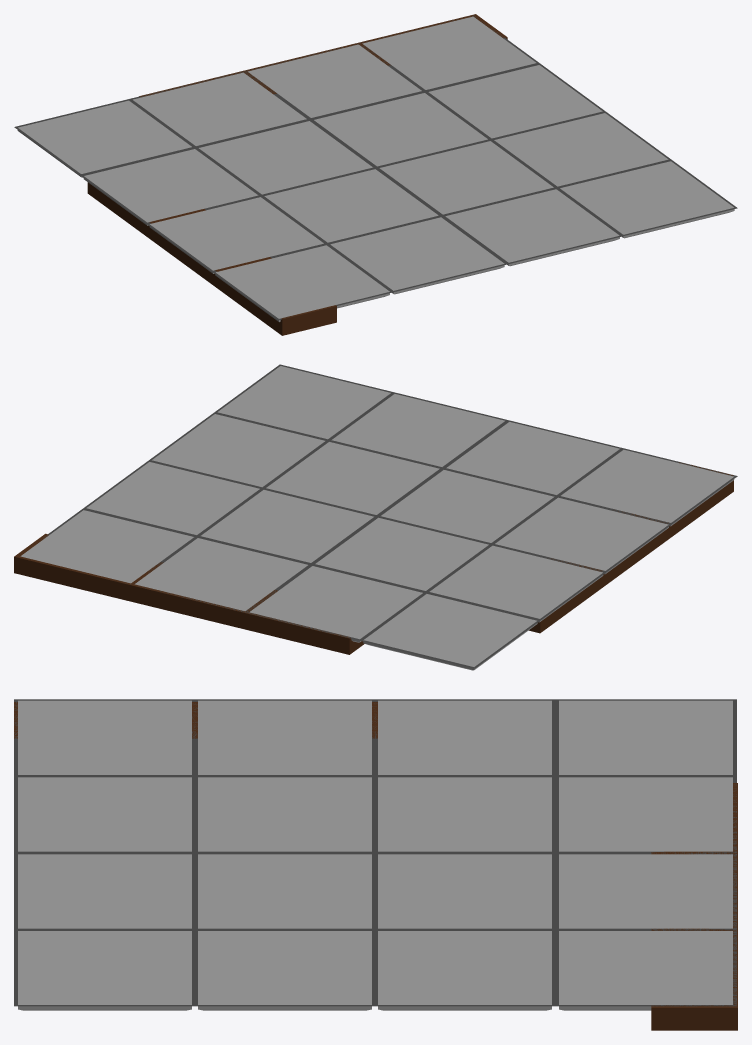
The model's file is StoneTilesCeillingCorner.fbx.
The picture shows the model from 3 angles, top to bottom: view 1: azimuth 30°, elevation 25°; view 2: azimuth 150°, elevation 25°; view 3: azimuth 270°, elevation 25°; orthographic projection. The views are drawn at different scales.
Parts seen in each view (by area): view 1: Plane.025, Cube.462, Cube.459, Cube.467, Cube.470, Cube.472, Cube.471, Cube.469, Cube.465, Cube.463, Cube.461, Cube.468 (+7 smaller); view 2: Plane.025, Cube.472, Cube.471, Cube.470, Cube.469, Cube.465, Cube.463, Cube.460, Cube.462, Cube.464, Cube.461, Cube.457 (+7 smaller); view 3: Plane.025, Cube.463, Cube.462, Cube.461, Cube.464, Cube.472, Cube.471, Cube.470, Cube.469, Cube.468, Cube.467, Cube.466 (+7 smaller).
Part boxes in pixels (box(x1,y1,x2,y2)): Plane.025: box(14, 15, 737, 320); Cube.462: box(560, 161, 734, 238); Cube.459: box(445, 189, 619, 266); Cube.467: box(330, 217, 504, 294); Cube.470: box(215, 245, 389, 322); Cube.472: box(17, 100, 191, 177); Cube.471: box(83, 149, 258, 225); Cube.469: box(149, 197, 323, 273); Cube.465: box(133, 72, 306, 145); Cube.463: box(428, 65, 602, 138); Cube.461: box(494, 113, 668, 186); Cube.468: box(264, 169, 438, 242); Plane.025: box(41, 364, 737, 668); Cube.472: box(363, 594, 537, 670); Cube.471: box(429, 545, 603, 622); Cube.470: box(561, 449, 734, 526); Cube.469: box(495, 497, 668, 574); Cube.465: box(249, 566, 422, 642); Cube.463: box(86, 462, 259, 534); Cube.460: box(266, 442, 439, 514); Cube.462: box(217, 366, 390, 439); Cube.464: box(20, 510, 193, 583); Cube.461: box(152, 414, 324, 487); Cube.457: box(135, 538, 307, 610); Plane.025: box(14, 699, 736, 1006); Cube.463: box(378, 931, 551, 1010); Cube.462: box(18, 931, 191, 1010); Cube.461: box(198, 931, 371, 1010); Cube.464: box(559, 931, 732, 1010); Cube.472: box(559, 700, 732, 774); Cube.471: box(378, 700, 551, 774); Cube.470: box(18, 700, 191, 774); Cube.469: box(198, 700, 371, 774); Cube.468: box(198, 777, 371, 851); Cube.467: box(18, 777, 191, 851); Cube.466: box(378, 777, 551, 851).
Size of the model in its own units: 849 by 28.92 by 841.
